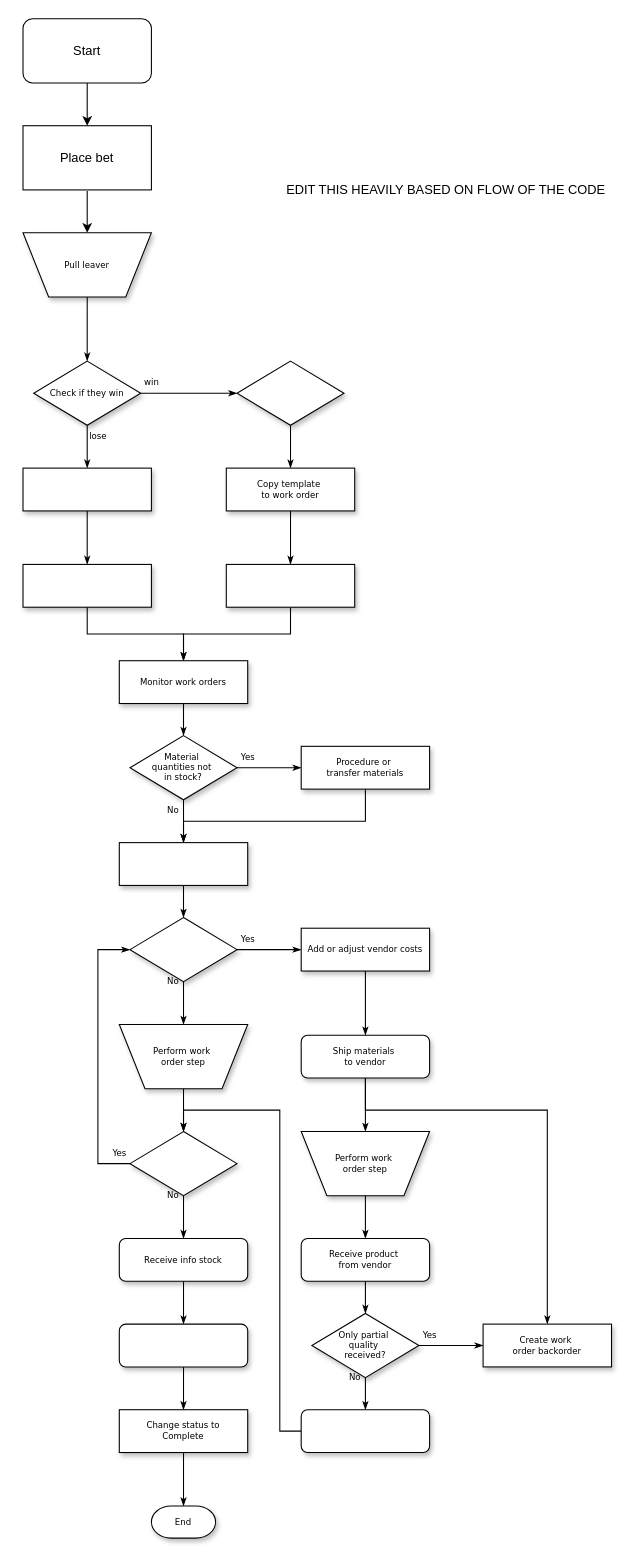
Image size: 637x1564. Some labels were removed from this diagram. The centre of each missing label's shape, as x and y in pixels:
"Add materials to work order processes" goes at point 88,587.
"Additional processing required?" goes at point 184,1164.
"Adjust material quantities if needed" goes at point 291,587.
"Change status to In Process" goes at point 184,865.
"gives payout of what you spent" goes at point 88,490.
"Pay vendor invoice" goes at point 366,1432.
"Payout + 40" goes at point 291,394.
"Ship product on order if needed" goes at point 184,1346.
"Step performed by outside vendor?" goes at point 184,950.
